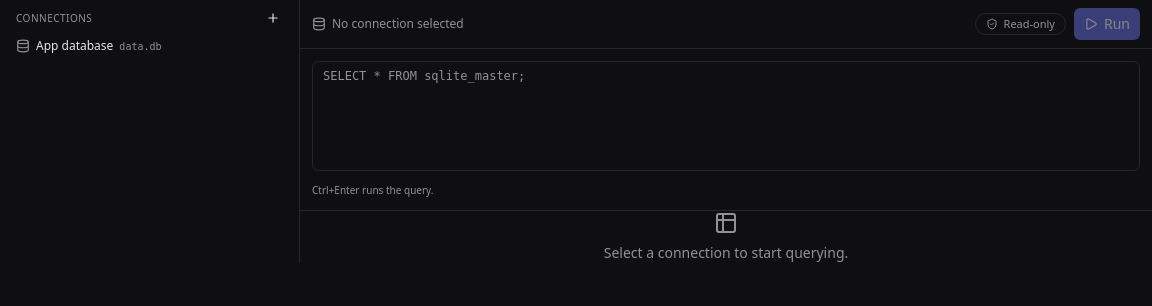
it: DatabasePage write safety › keeps one accessible name in both states, so it can always be found
Click the button "App database data.db". click: x=136, y=46
box: [16,38,257,54]
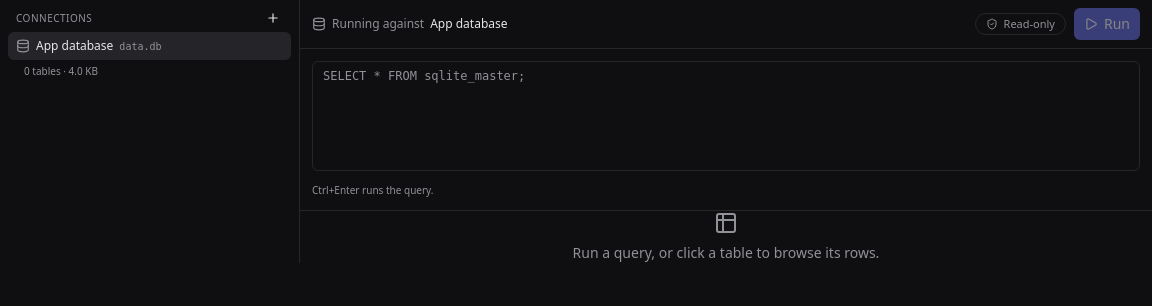
Expected: the text "0 tables · 4.0 KB" is shown, [24,64,98,78]
Click the button with aria-label "Allow SQL writes". click: x=1020, y=24
box: [974,13,1066,35]
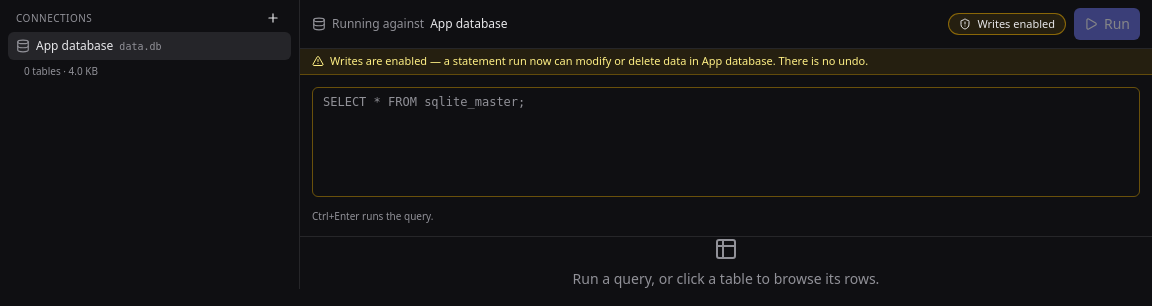
Expected: the button with aria-label "Allow SQL writes" reads "Writes enabled", [948,13,1066,35]
